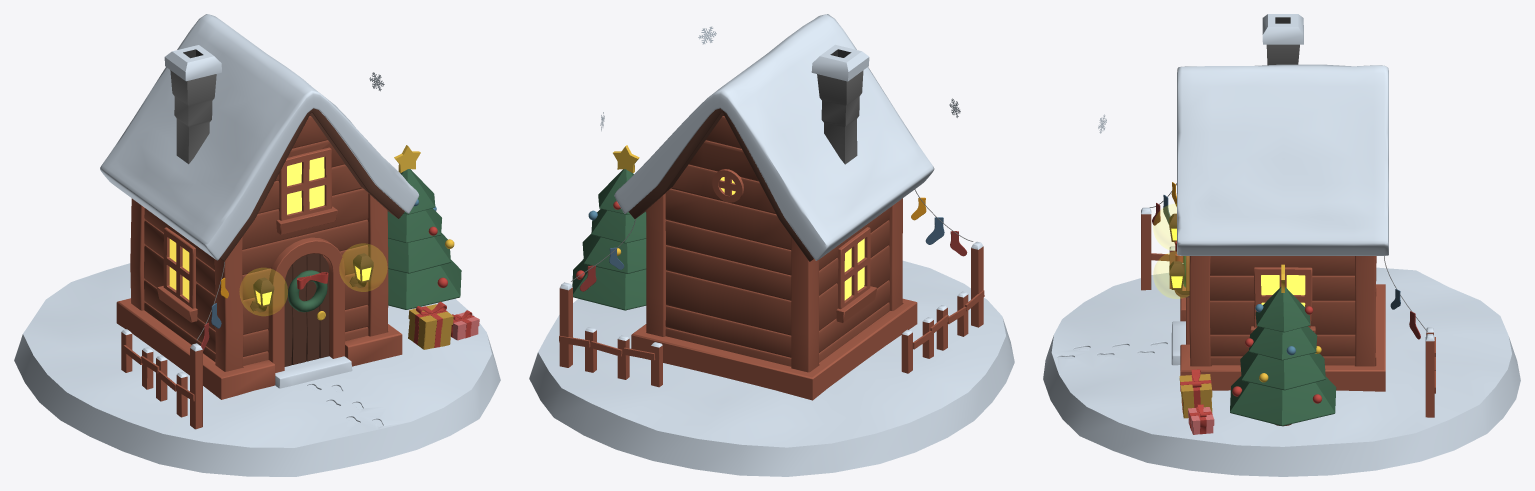
3 renders of one model, left to right at view 1: azimuth 30°, elevation 25°; view 2: azimuth 150°, elevation 25°; view 3: azimuth 270°, elevation 25°, orthographic. The views are drawn at different scales.
Visible parts, largest first — view 1: Ground, Roof Snow, Pillars, Small wall, Bow, Würfel.1 (×3), Würfel (×3), Boole.1 (×2), Kugel (×2), Chimney-Steingrau, Würfel.4, Roof (+17 smaller); view 2: Ground, Roof Snow, Small wall, Pillars, Würfel.2, Würfel.3, Würfel.1, Boole.1, Würfel.4, Chimney-Steingrau, Roof, Zylinder (+14 smaller); view 3: Ground, Roof Snow, Pillars, Zylinder, Small wall, Würfel.2, Zylinder.1, Würfel.4, Würfel (×3), Würfel.3, Kugel (×2), Zylinder.2 (+8 smaller).
Part boxes in pixels (x1,y1,x2,y2): Ground: (14,263,500,476); Roof Snow: (100,14,419,260); Pillars: (130,193,388,371); Small wall: (116,298,402,399); Bow: (268,237,344,372); Würfel.1 (×3): (144,206,451,356); Würfel (×3): (144,147,453,365); Boole.1 (×2): (242,187,371,364); Kugel (×2): (240,244,386,315); Chimney-Steingrau: (170,70,216,164); Würfel.4: (144,208,368,274); Roof: (220,108,404,261); Ground: (529,260,1014,476); Roof Snow: (614,14,934,260); Small wall: (631,298,917,400); Pillars: (646,193,902,372); Würfel.2: (666,245,889,335); Würfel.3: (666,220,889,300); Würfel.1: (665,280,889,357); Boole.1: (662,188,791,249); Würfel.4: (665,208,889,275); Chimney-Steingrau: (817,70,863,164); Roof: (628,108,813,261); Zylinder: (572,259,646,310); Ground: (1043,267,1520,476); Roof Snow: (1177,64,1388,255); Pillars: (1189,256,1376,366); Zylinder: (1230,376,1336,425); Small wall: (1180,284,1385,391); Würfel.2: (1210,300,1355,334); Zylinder.1: (1240,351,1325,390); Würfel.4: (1210,256,1354,275); Würfel (×3): (1179,267,1355,399); Würfel.3: (1210,275,1355,300); Kugel (×2): (1153,204,1188,298); Zylinder.2: (1249,326,1317,360).
Size of the model in its own units: 6.65 by 5.31 by 6.98.
